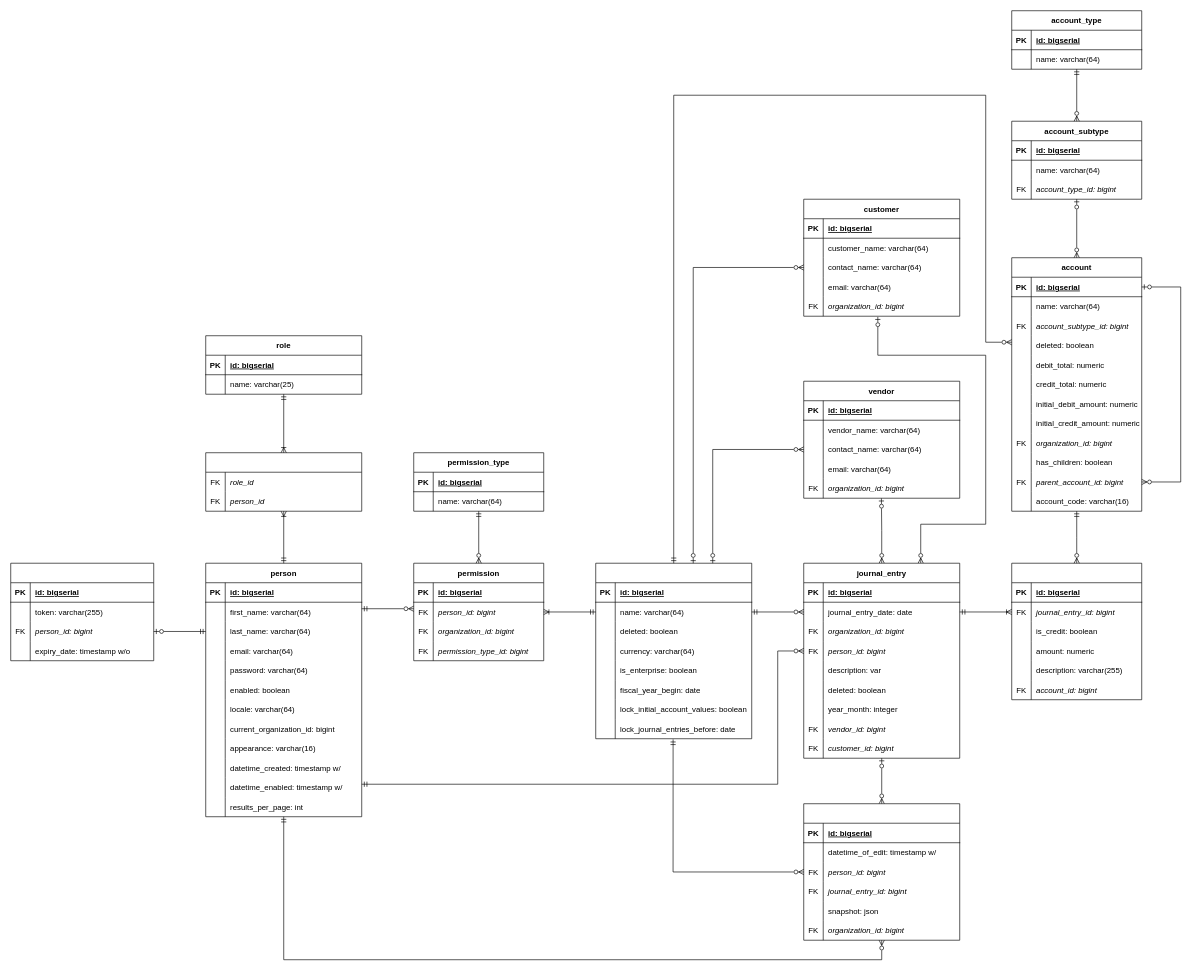
The diagram is 1191 pixels wide and 970 high, and some of its shapes have lost their labels. The box of each missing label's shape, as (x1, y1, x2, y2) in pixels:
journal_entry_log: (803, 803, 960, 940)
line_item: (1011, 563, 1142, 700)
organization: (595, 563, 752, 739)
person_role: (205, 452, 362, 511)
verification_token: (10, 563, 154, 661)
